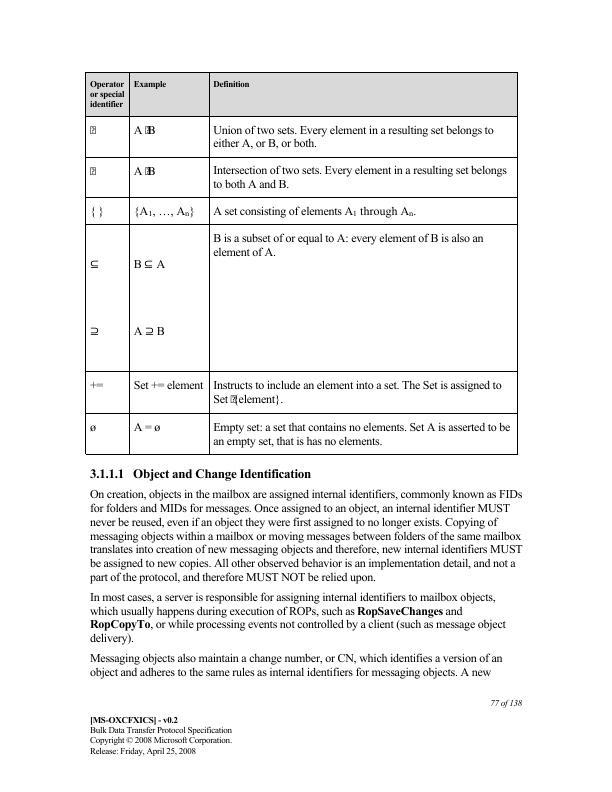table: (82, 70, 523, 458)
text: (88, 489, 525, 584), (87, 589, 509, 647), (88, 651, 505, 681), (86, 709, 238, 757), (86, 465, 312, 483), (487, 692, 527, 711)
